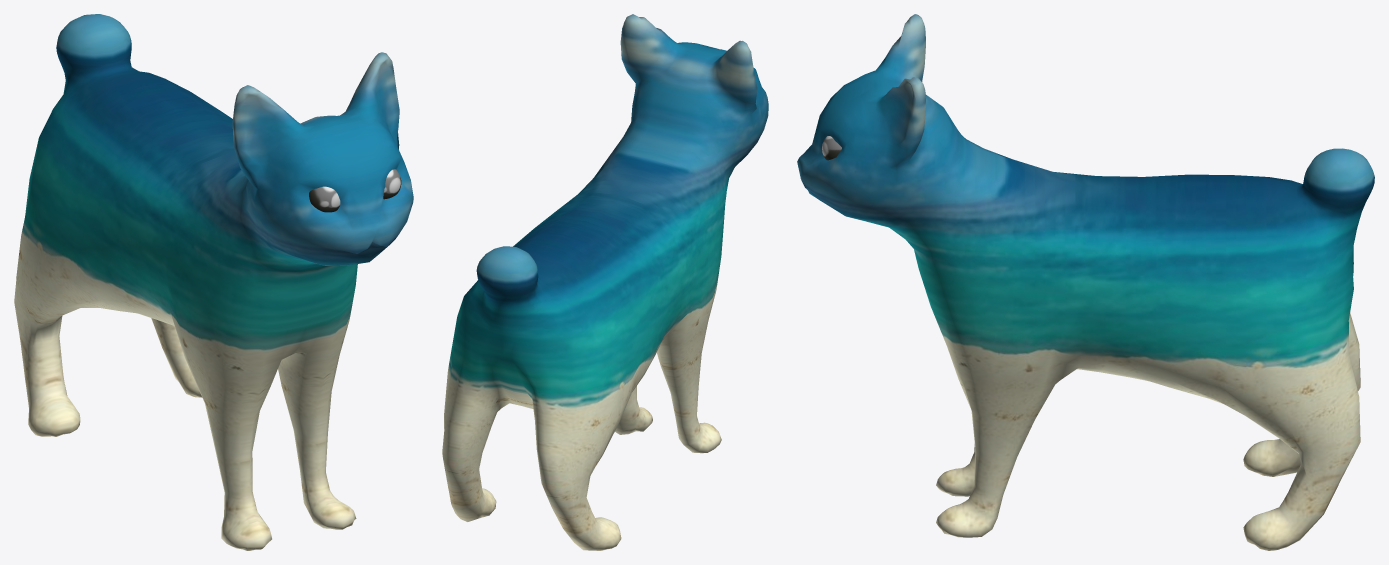
Rendered from cat_shorty_1.fbx.
3 renders of one model, left to right at view 1: azimuth 30°, elevation 25°; view 2: azimuth 150°, elevation 25°; view 3: azimuth 270°, elevation 25°, orthographic. The views are drawn at different scales.
Visible parts, largest first — view 1: cat_shorty; view 2: cat_shorty; view 3: cat_shorty.
Part boxes in pixels (box(x1,y1,x2,y2)): cat_shorty: box(14, 14, 413, 550); cat_shorty: box(442, 14, 768, 550); cat_shorty: box(797, 14, 1374, 550).
Bounding box in the file's own units: 0.2094 × 0.487 × 0.5463.
Materials: 1 (1 with a texture image).
